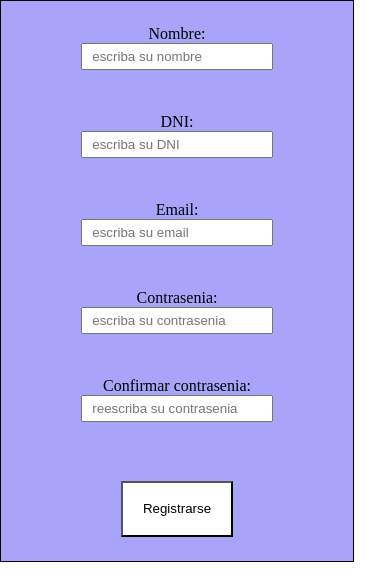
Test case: - Test FormularioRegister - › - Aparecen los errores correctamente - › Aparece el error es requerido el campo nombre
Click the button "Registrarse": (177, 509) [121,481,233,537]
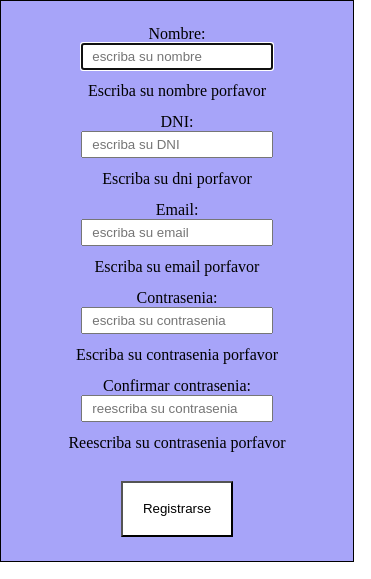
Expected: the text named "nombre-error" is shown, [88,82,266,100]
